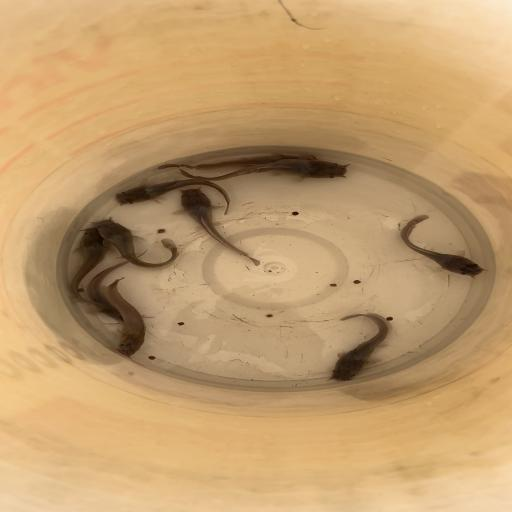lele: (179, 186, 261, 266), (400, 214, 490, 280), (86, 249, 152, 323), (114, 178, 241, 216), (326, 312, 394, 382), (95, 214, 177, 268), (174, 158, 350, 181), (104, 276, 148, 356), (68, 222, 106, 306), (148, 153, 318, 170)
